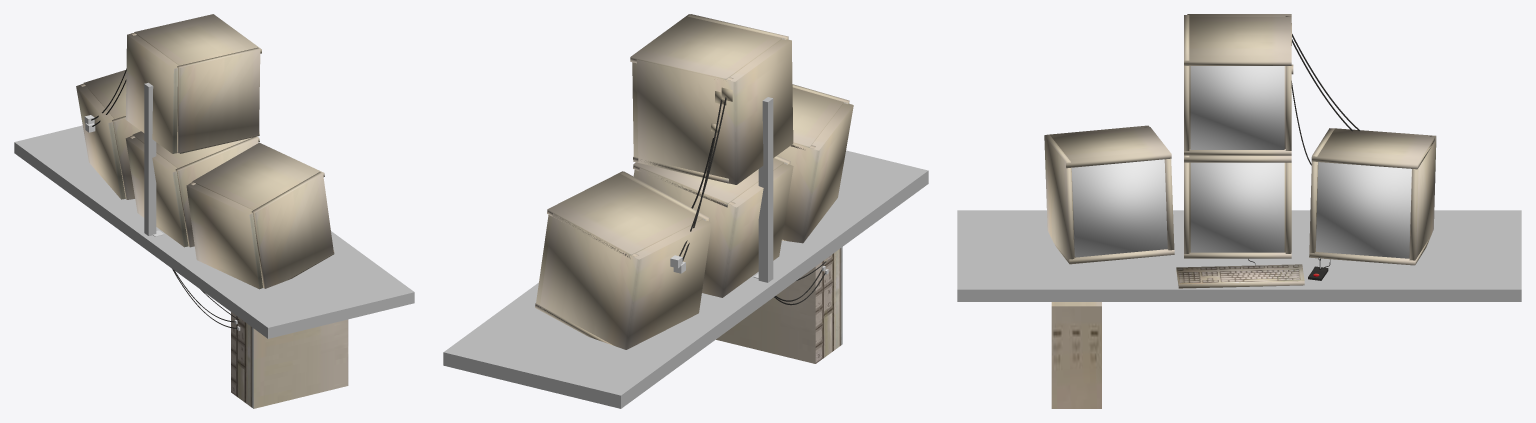
File: screen_room_desk_.blend_2.fbx
3 views of the same model, side by side, from view 1: azimuth 30°, elevation 25°; view 2: azimuth 150°, elevation 25°; view 3: azimuth 270°, elevation 25° (orthographic). The views are drawn at different scales.
Parts seen in each view (by area): view 1: Cube.007, Cube, Cube.001, Cube.012, Catenary.001; view 2: Cube.007, Cube, Cube.001, Cube.012, Catenary.001; view 3: Cube.006, Cube, Cube.007, Cube.001, Cube.009, Catenary.001.
Part boxes in pixels (box(x1,y1,x2,y2)): Cube.007: box(76, 14, 334, 289); Cube: box(14, 125, 414, 338); Cube.001: box(231, 312, 348, 408); Cube.012: box(144, 82, 156, 235); Catenary.001: box(91, 68, 238, 328); Cube.007: box(535, 14, 853, 349); Cube: box(443, 150, 928, 408); Cube.001: box(716, 247, 842, 363); Cube.012: box(758, 97, 773, 282); Catenary.001: box(679, 97, 826, 305); Cube.006: box(1071, 66, 1411, 258); Cube: box(957, 210, 1521, 301); Cube.007: box(1044, 14, 1436, 265); Cube.001: box(1051, 302, 1101, 408); Cube.009: box(1176, 264, 1304, 288); Catenary.001: box(1291, 34, 1360, 165).
Size of the model in its own units: 126 by 246 by 377.
